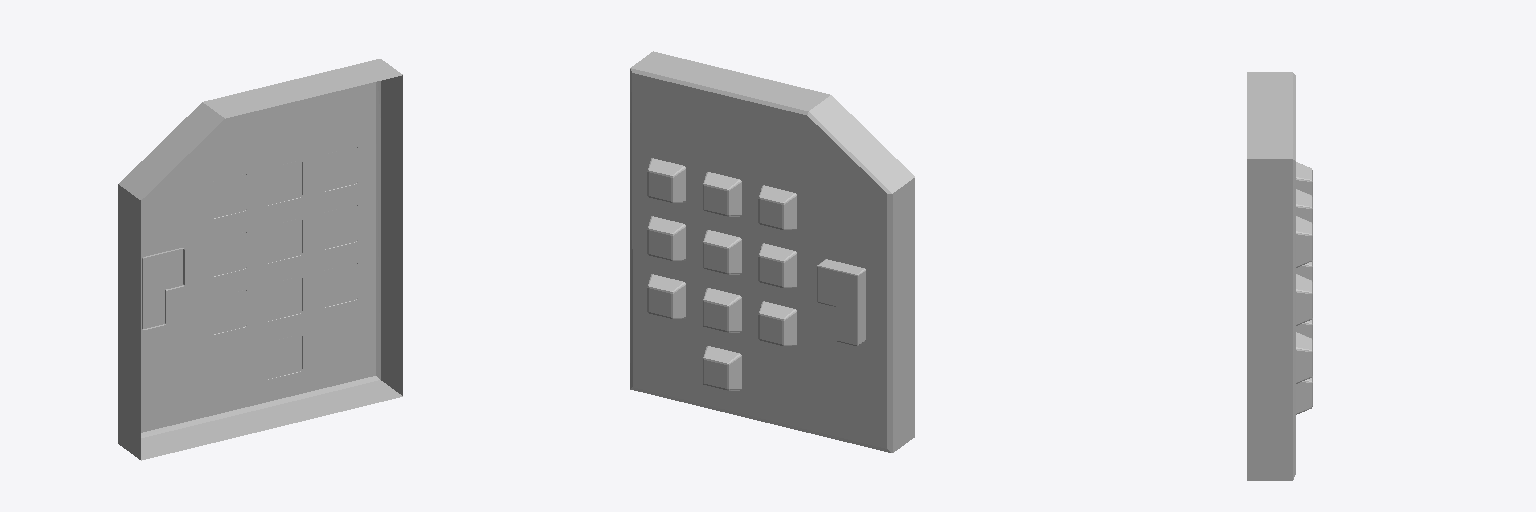
3 renders of one model, left to right at view 1: azimuth 30°, elevation 25°; view 2: azimuth 150°, elevation 25°; view 3: azimuth 270°, elevation 25°, orthographic.
Parts seen in each view (by area): view 1: Panel_low, Button_low; view 2: Panel_low, Button_low; view 3: Panel_low, Button_low.
Part boxes in pixels (left/top/right/bottom): Panel_low: left=118, top=59, right=402, bottom=460; Button_low: left=142, top=147, right=357, bottom=379; Panel_low: left=630, top=51, right=914, bottom=452; Button_low: left=647, top=158, right=865, bottom=390; Panel_low: left=1247, top=72, right=1295, bottom=480; Button_low: left=1296, top=162, right=1312, bottom=414.
Bounding box in the file's own units: 1.71 × 2 × 0.3669.